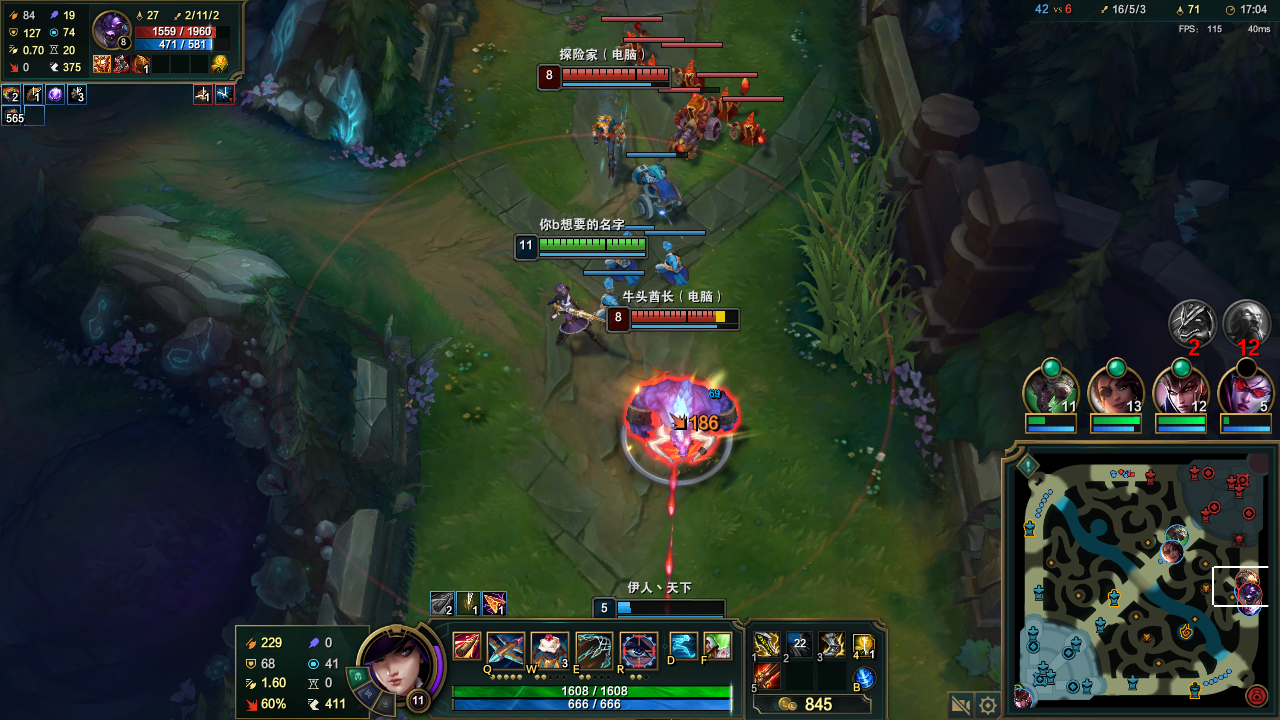DFXB: (669, 102, 714, 147), (730, 118, 764, 151), (710, 92, 736, 117), (678, 61, 702, 84), (618, 36, 646, 54)
DFYX: (558, 68, 666, 83), (628, 312, 732, 326)
WFXB: (632, 170, 676, 211), (651, 249, 690, 286), (594, 282, 618, 306), (612, 257, 633, 275)
